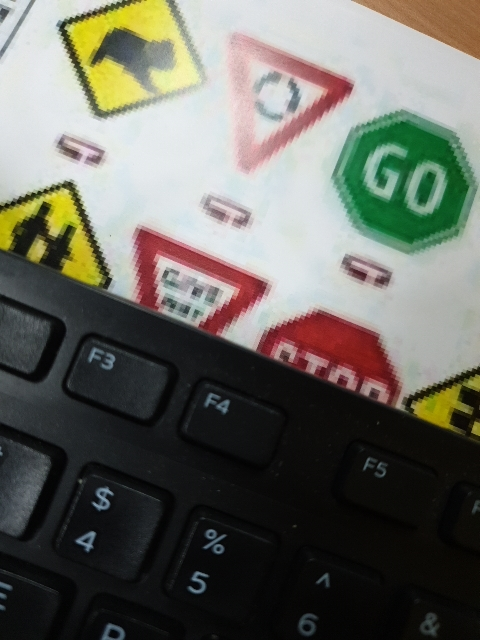giveway: (131, 220, 257, 351)
stop: (261, 288, 416, 420)
